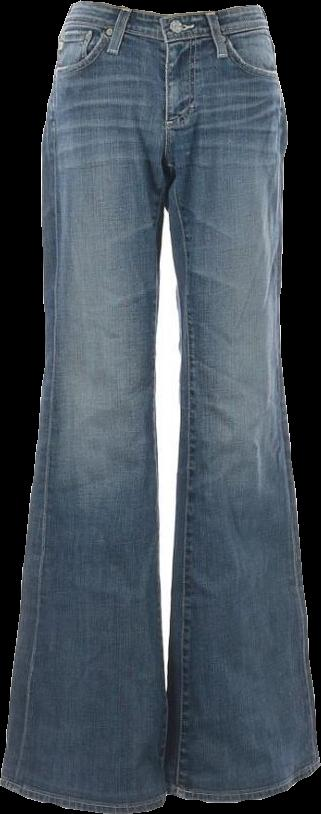Hemline: (166, 757, 320, 807), (0, 774, 174, 813)
Pantleg: (1, 2, 168, 813), (155, 5, 319, 802)
Waistline: (61, 16, 269, 45), (72, 0, 261, 20)
